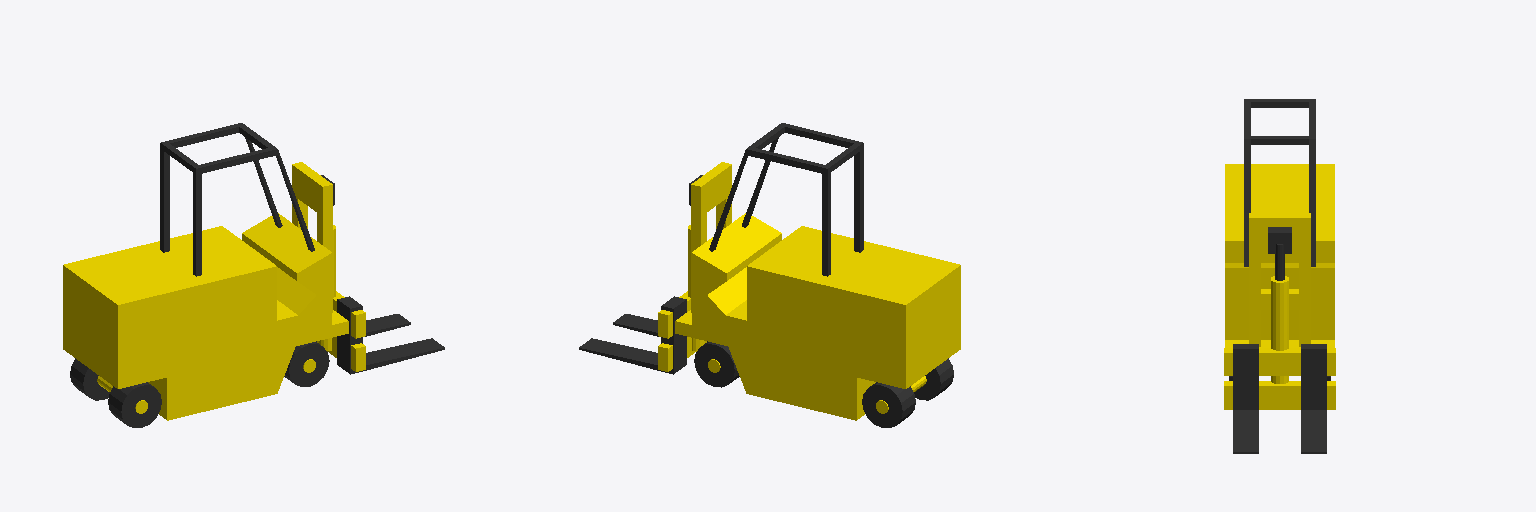
3 views of the same model, side by side, from view 1: azimuth 30°, elevation 25°; view 2: azimuth 150°, elevation 25°; view 3: azimuth 270°, elevation 25° (orthographic).
Visible parts, largest first — view 1: Forklift; view 2: Forklift; view 3: Forklift.
Part boxes in pixels (left/top/right/bottom): Forklift: left=63, top=123, right=444, bottom=427; Forklift: left=579, top=123, right=960, bottom=427; Forklift: left=1224, top=99, right=1335, bottom=453.
Bounding box in the file's own units: 1.98 × 1.36 × 0.5761.
1 materials, 1 textured.